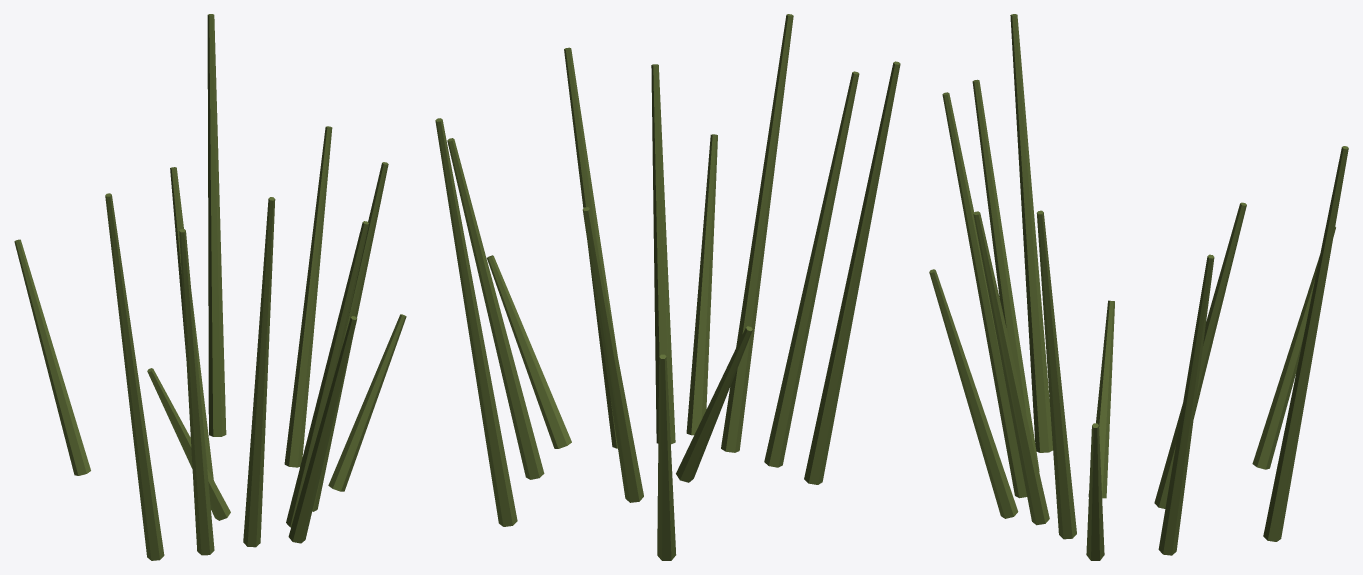
File: grass_tuft.glb
3 renders of one model, left to right at view 1: azimuth 30°, elevation 25°; view 2: azimuth 150°, elevation 25°; view 3: azimuth 270°, elevation 25°, orthographic. The views are drawn at different scales.
Parts seen in each view (by area): view 1: world-scenery/grass_tuft; view 2: world-scenery/grass_tuft; view 3: world-scenery/grass_tuft.
Boxes of the visible parts, x1=… form: world-scenery/grass_tuft: x1=14, y1=14, x2=406, y2=560; world-scenery/grass_tuft: x1=435, y1=14, x2=900, y2=560; world-scenery/grass_tuft: x1=929, y1=14, x2=1348, y2=560.
Size of the model in its own units: 0.8088 by 0.8923 by 0.8314.
